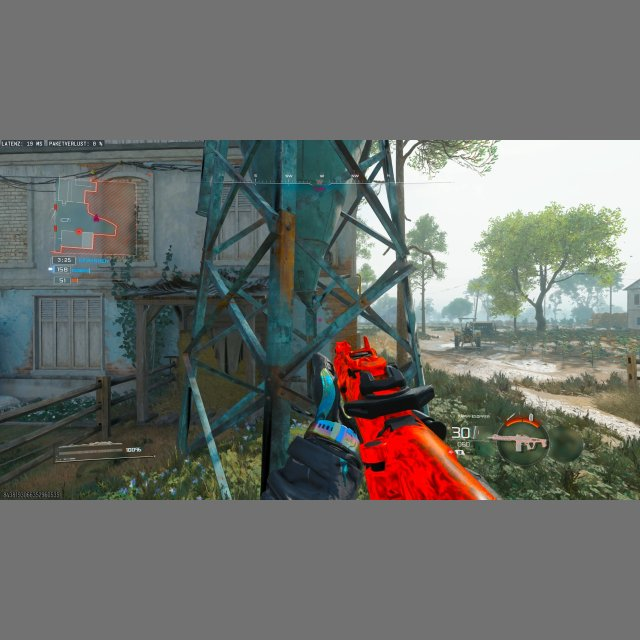player: (453, 327, 463, 348)
